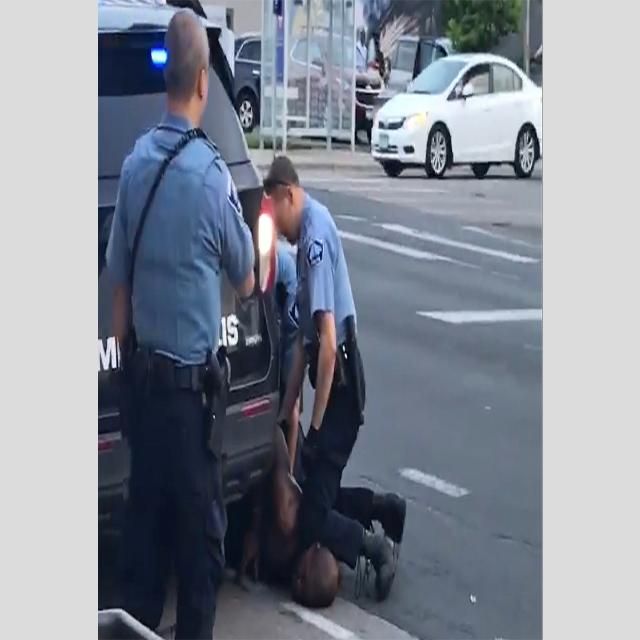police: (99, 0, 261, 640), (267, 139, 409, 604)
